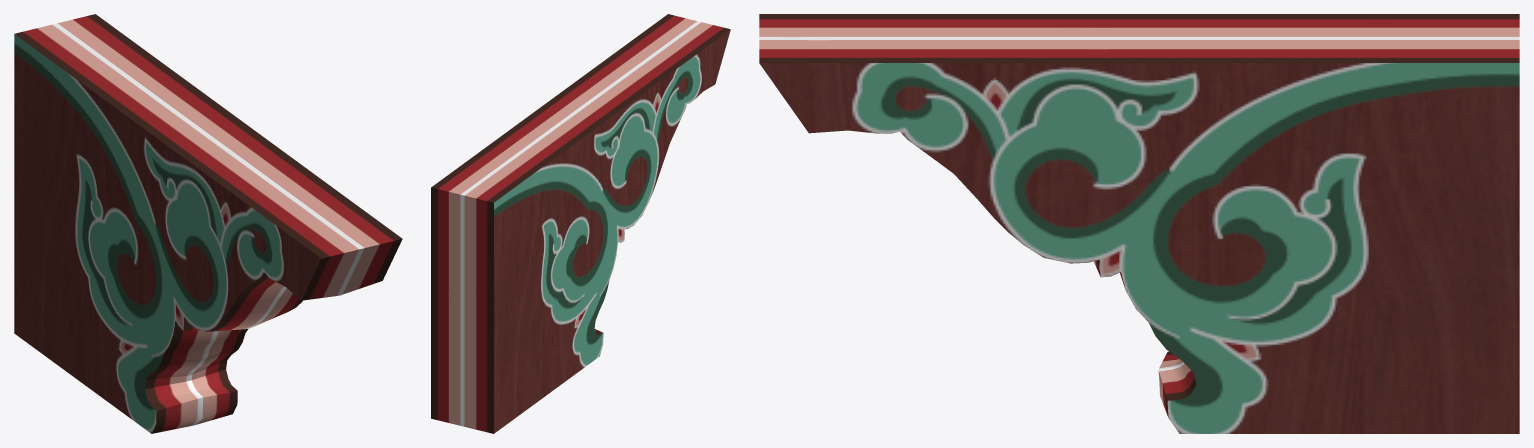
File: SM_Boaji06E.fbx
3 views of the same model, side by side, from view 1: azimuth 30°, elevation 25°; view 2: azimuth 150°, elevation 25°; view 3: azimuth 270°, elevation 25° (orthographic). The views are drawn at different scales.
Parts seen in each view (by area): view 1: SM_Boaji06E; view 2: SM_Boaji06E; view 3: SM_Boaji06E.
Part boxes in pixels (bbox=[...]): SM_Boaji06E: bbox=[14, 14, 402, 433]; SM_Boaji06E: bbox=[431, 14, 730, 433]; SM_Boaji06E: bbox=[759, 14, 1519, 433].
Bounding box in the file's own units: 6.75 × 44.15 × 23.76.
